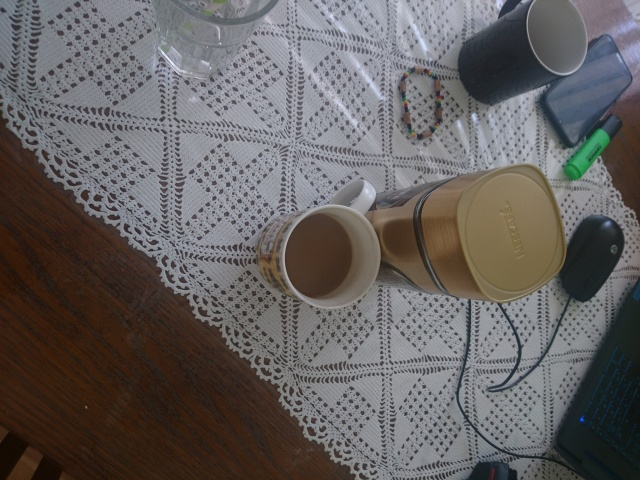Nescafe Gold 225g: (334, 161, 570, 306)
